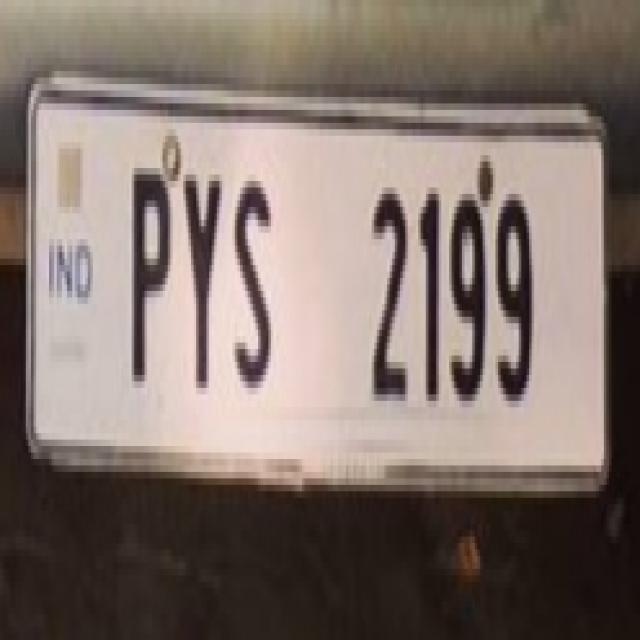1: (413, 178, 447, 416)
9: (491, 180, 540, 428), (446, 174, 491, 405)
P: (123, 148, 174, 394)
S: (230, 161, 284, 401)
Y: (178, 145, 225, 392)
